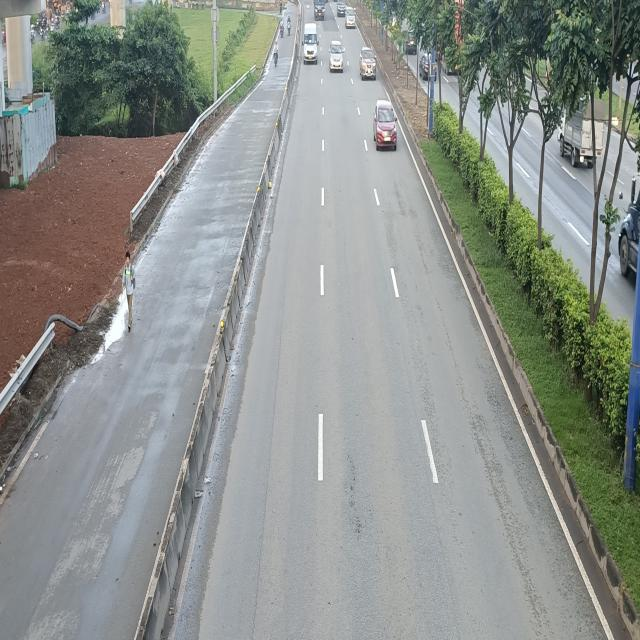car: (374, 102, 399, 151)
van: (303, 22, 320, 63)
